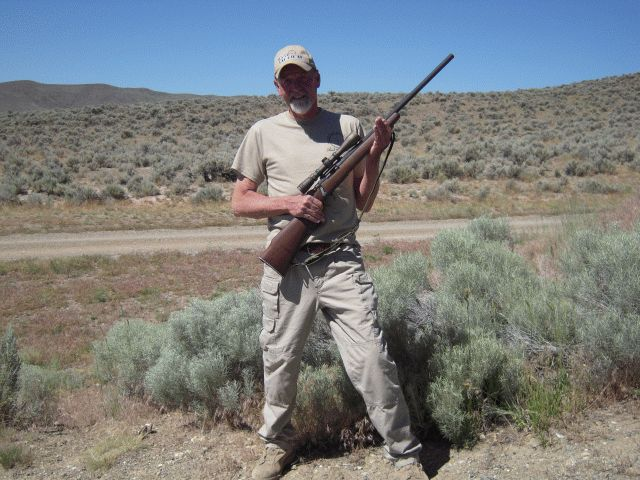Rifle: (257, 50, 458, 285)
